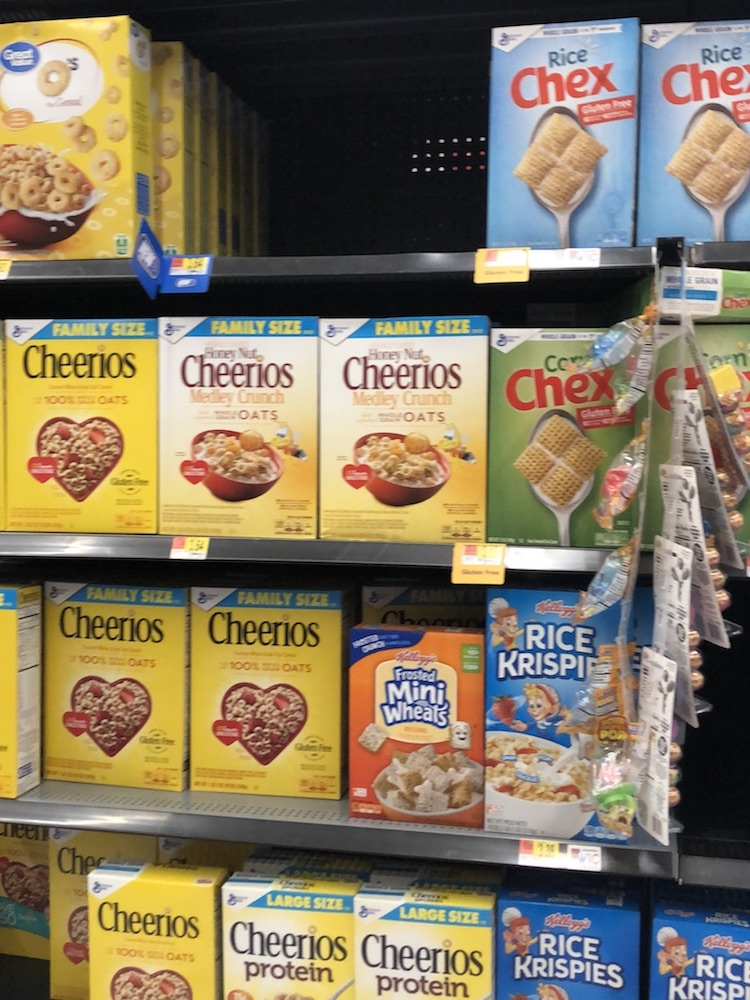Frosted Mini Original -9295869: (344, 630, 486, 825)
